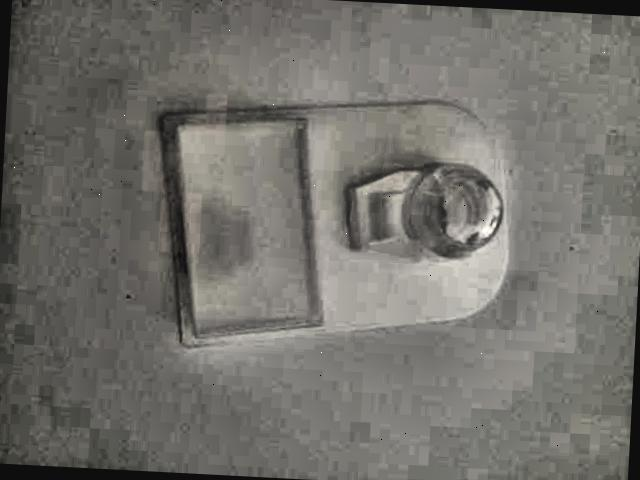Plastic: (140, 65, 531, 384)
